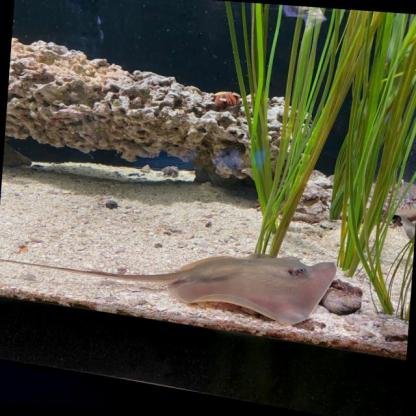stingray: (164, 249, 338, 329)
